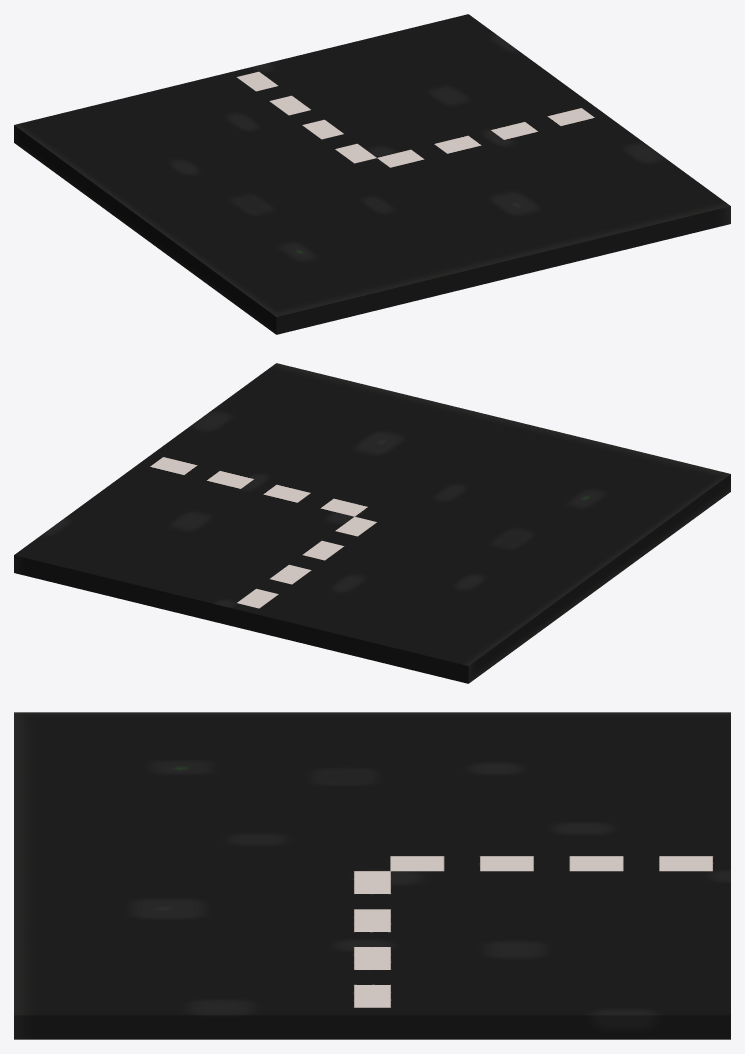
File: road_8x8_corner_00.glb
The picture shows the model from 3 angles, top to bottom: view 1: azimuth 30°, elevation 25°; view 2: azimuth 150°, elevation 25°; view 3: azimuth 270°, elevation 25°; orthographic projection. The views are drawn at different scales.
Parts seen in each view (by area): view 1: road_8x8_corner_00; view 2: road_8x8_corner_00; view 3: road_8x8_corner_00.
Part boxes in pixels (x1,y1,x2,y2): road_8x8_corner_00: (14,14,730,334); road_8x8_corner_00: (14,363,730,683); road_8x8_corner_00: (14,712,730,1039).
Size of what is drawn, in the model's own units: 8 by 0.3 by 8.
1 material, 1 textured.
